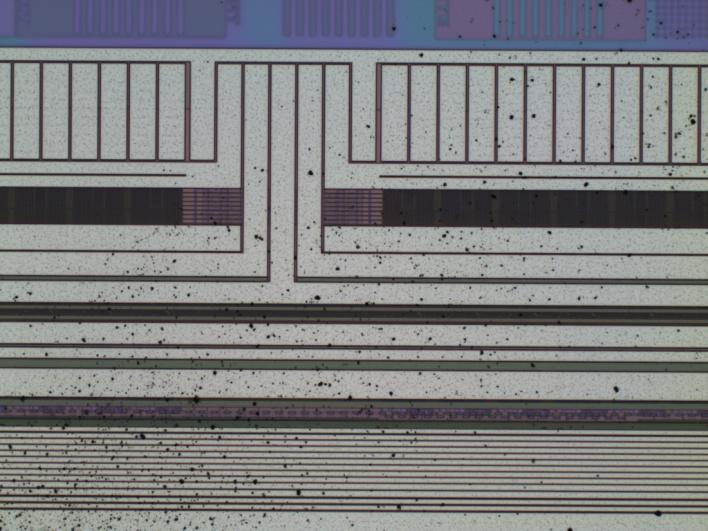PO CONTAMINATION: (1, 1, 708, 531)
